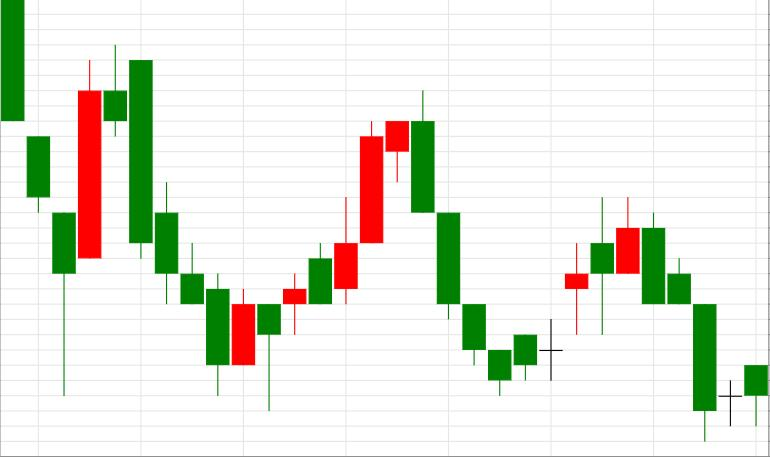hammer_rise: (129, 60, 281, 412)
three_black_crows_fall: (283, 90, 486, 366)
